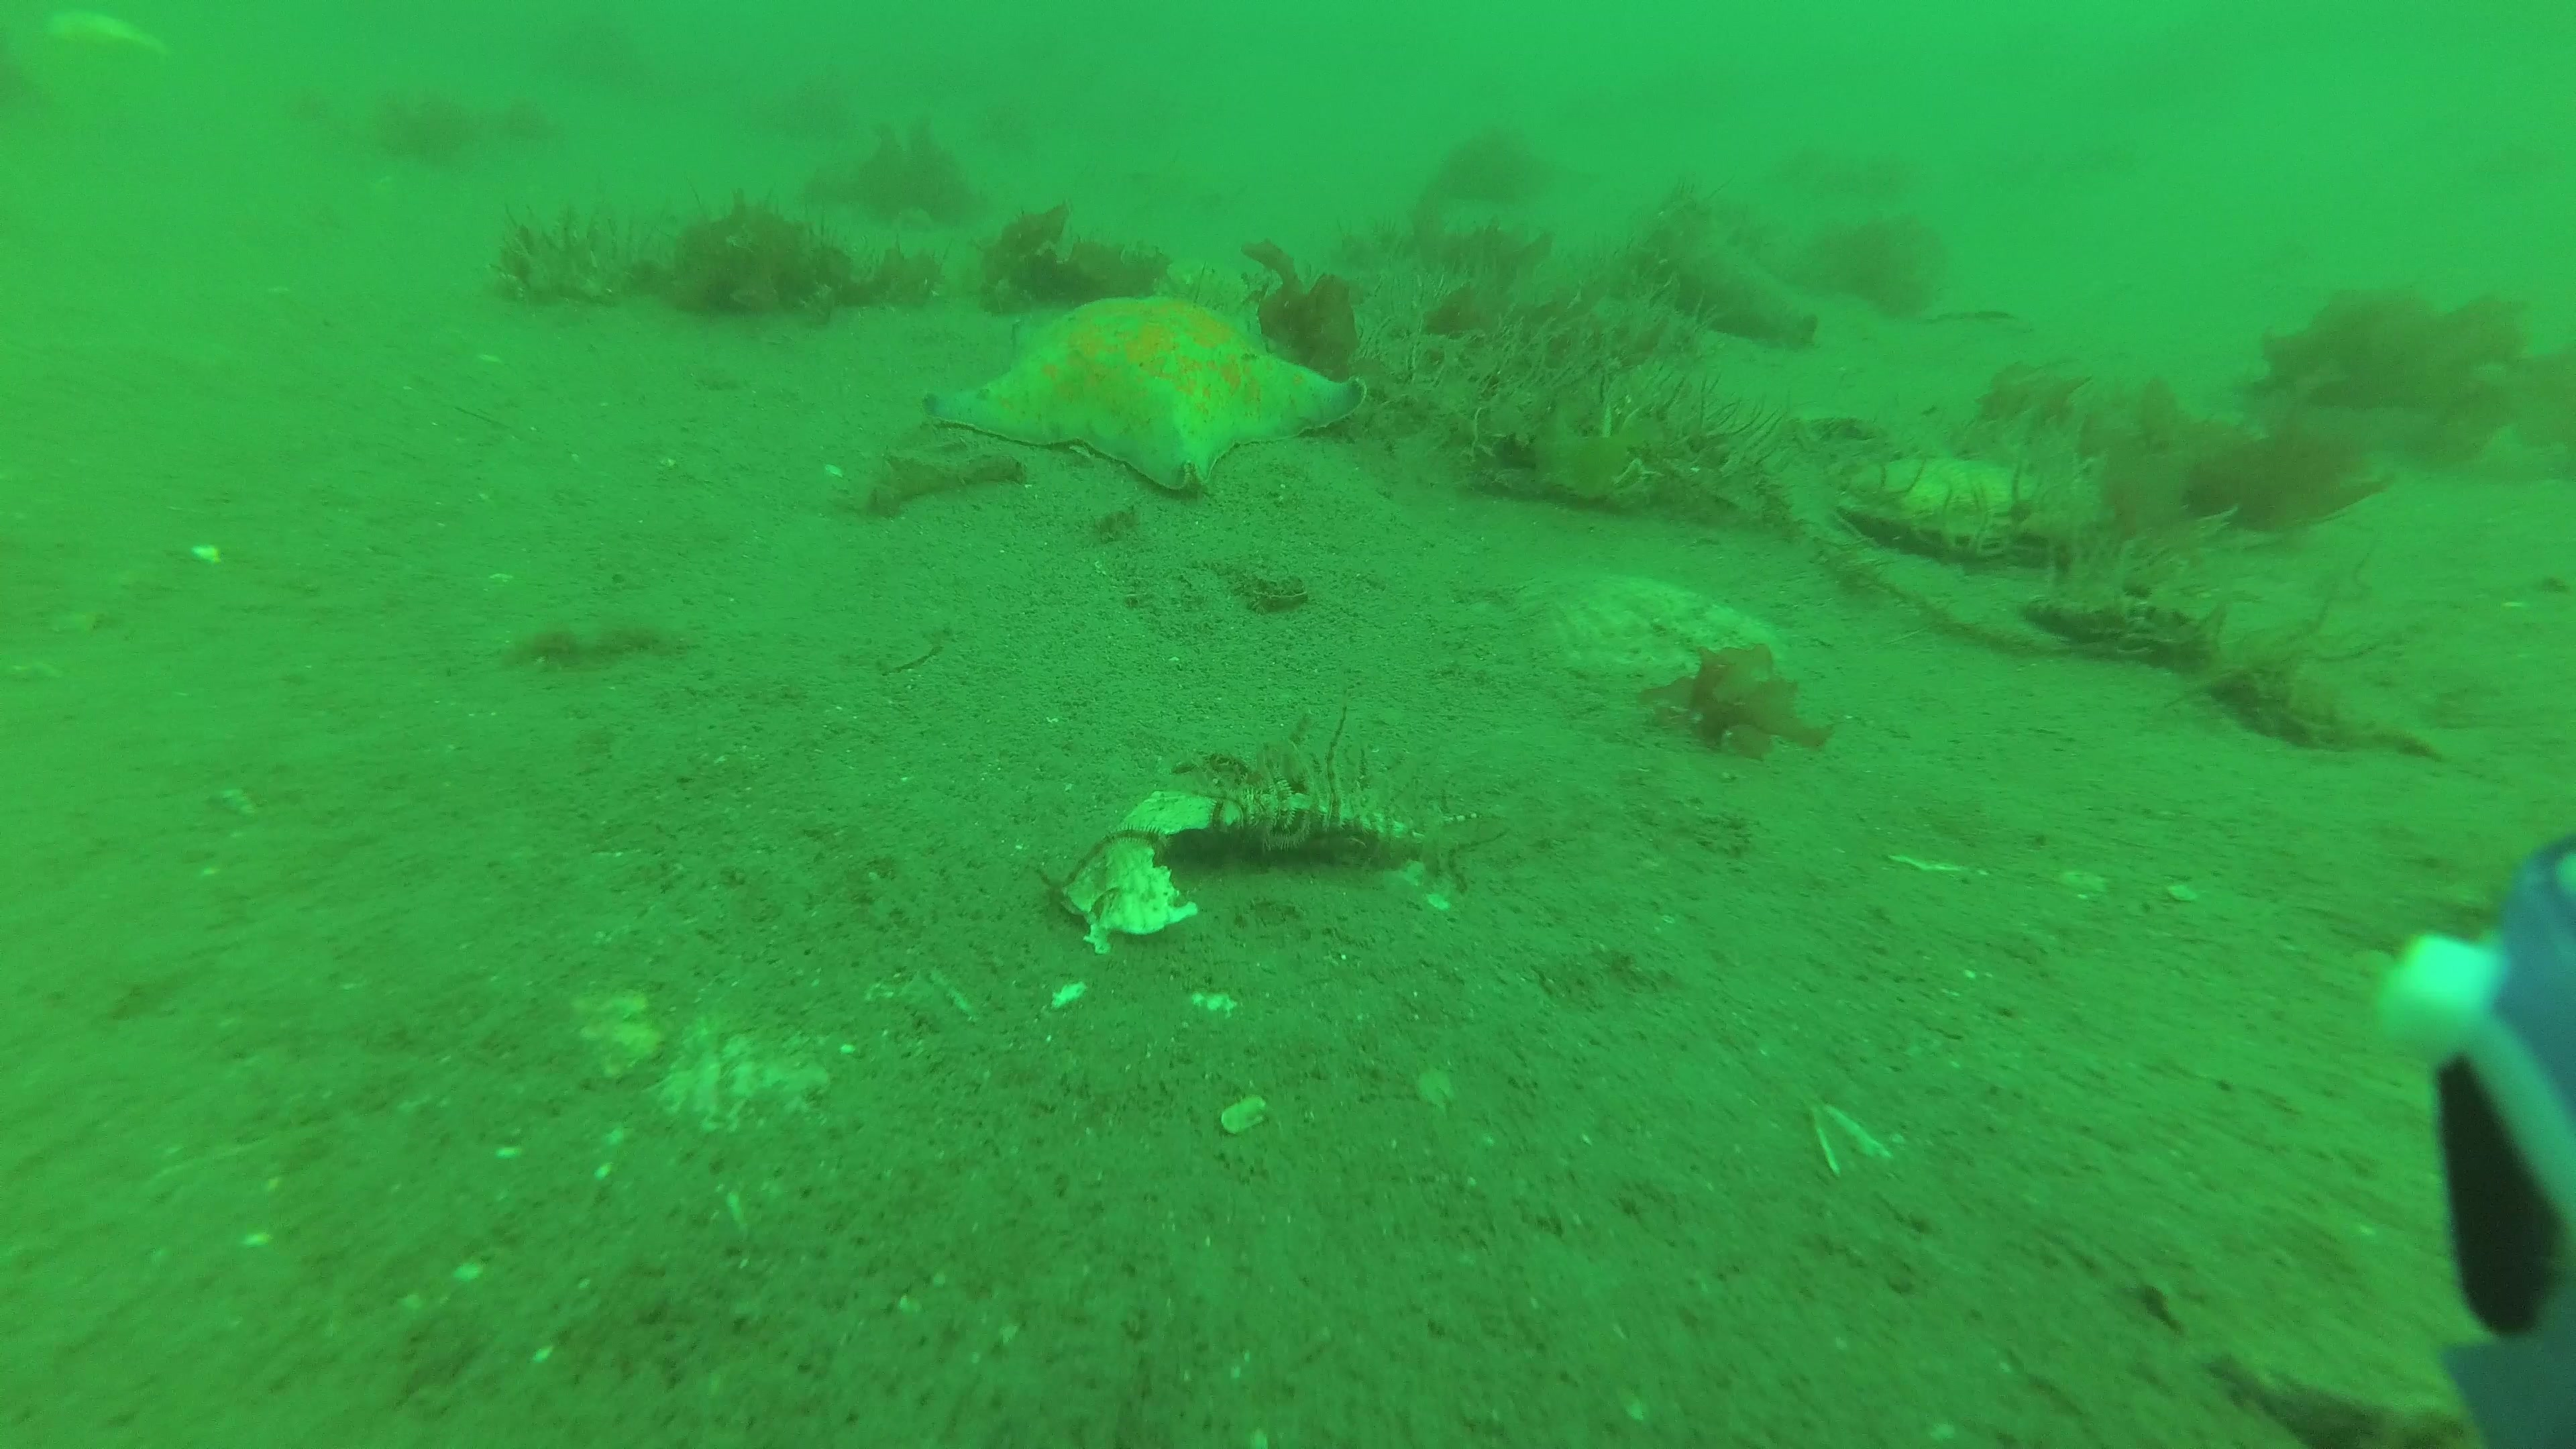starfish: (924, 287, 1375, 504)
